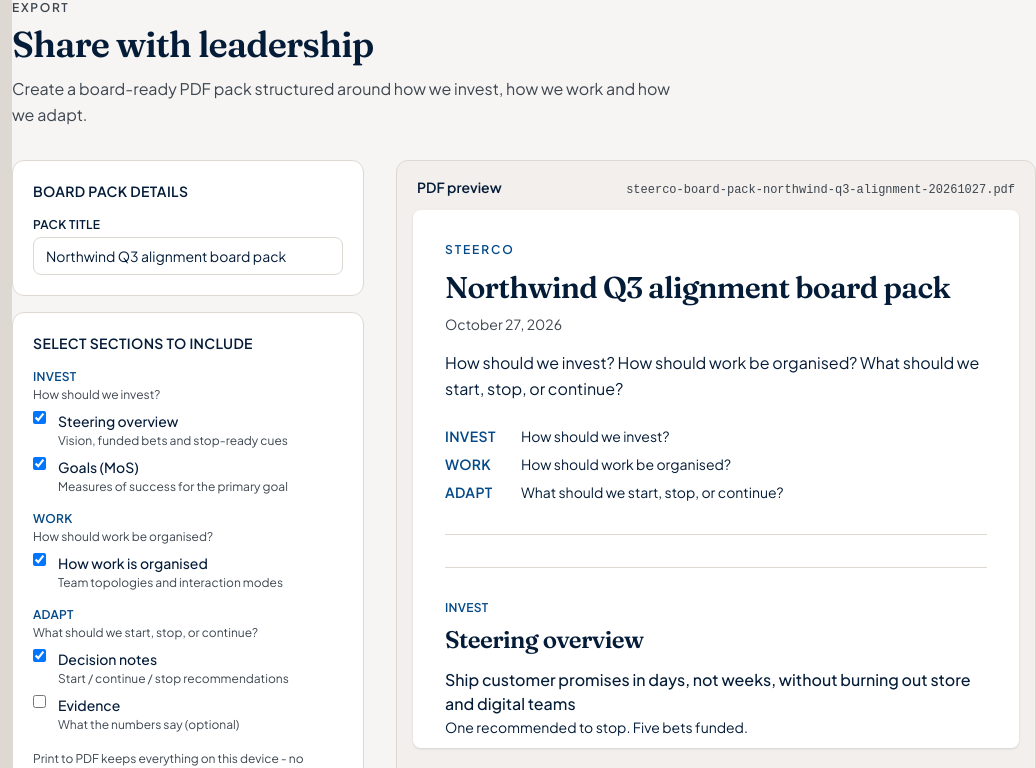
Scenario: ExportBoardPackPage › previews decision notes and omits organisation when unchecked
Expected: the text "Invest" is shown, [33,369,76,384]
Expected: the text "Work" is shown, [33,511,72,526]
Step 1. Click the checkbox labelled "How work is organised Team topologies and interaction modes" → [40, 560], box [33,553,46,566]
(page scrolled)
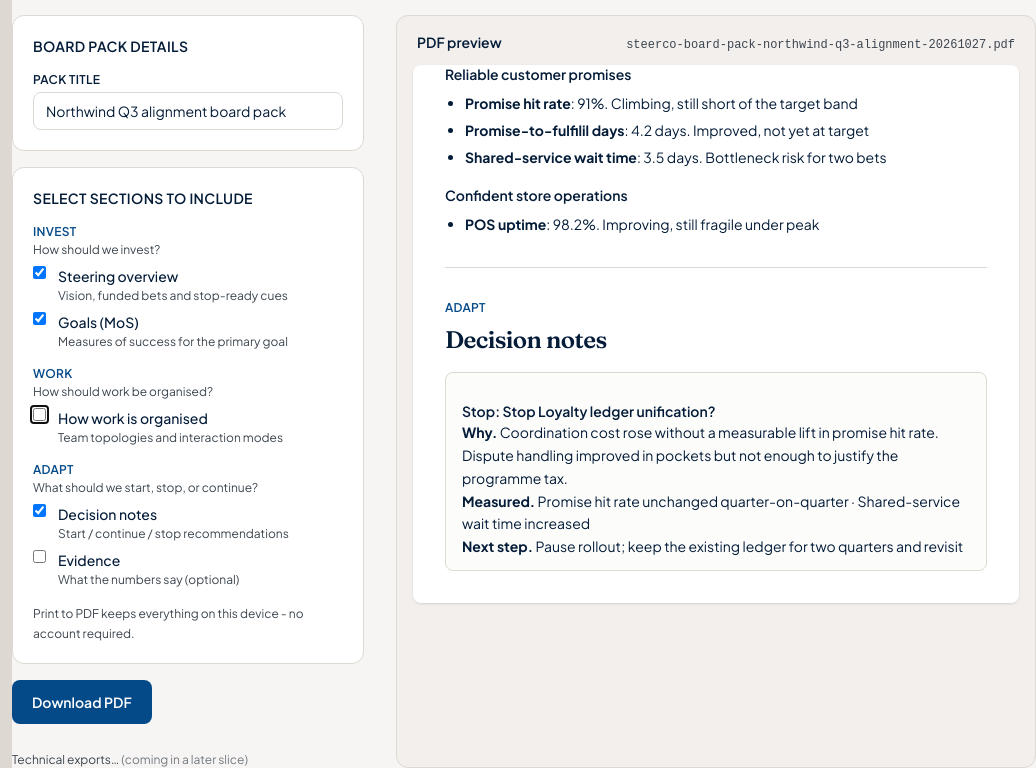
Expected: the element with test id "export-section-decisions" is shown, [445,267,987,571]
